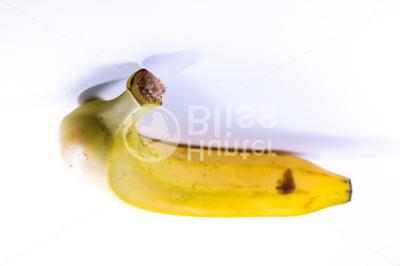banana: (0, 0, 400, 266)
